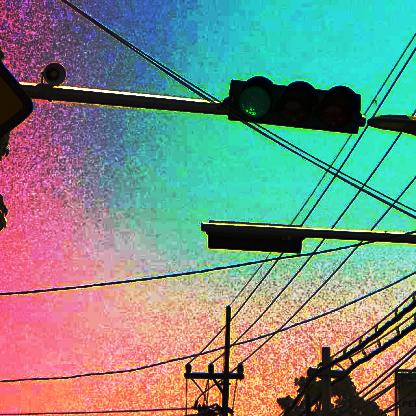Traffic Light -Green-: (223, 76, 361, 139)
